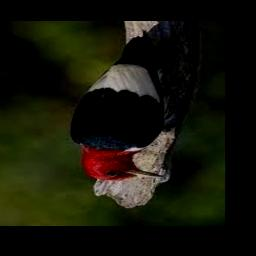Woodpecker: (67, 32, 179, 181)
